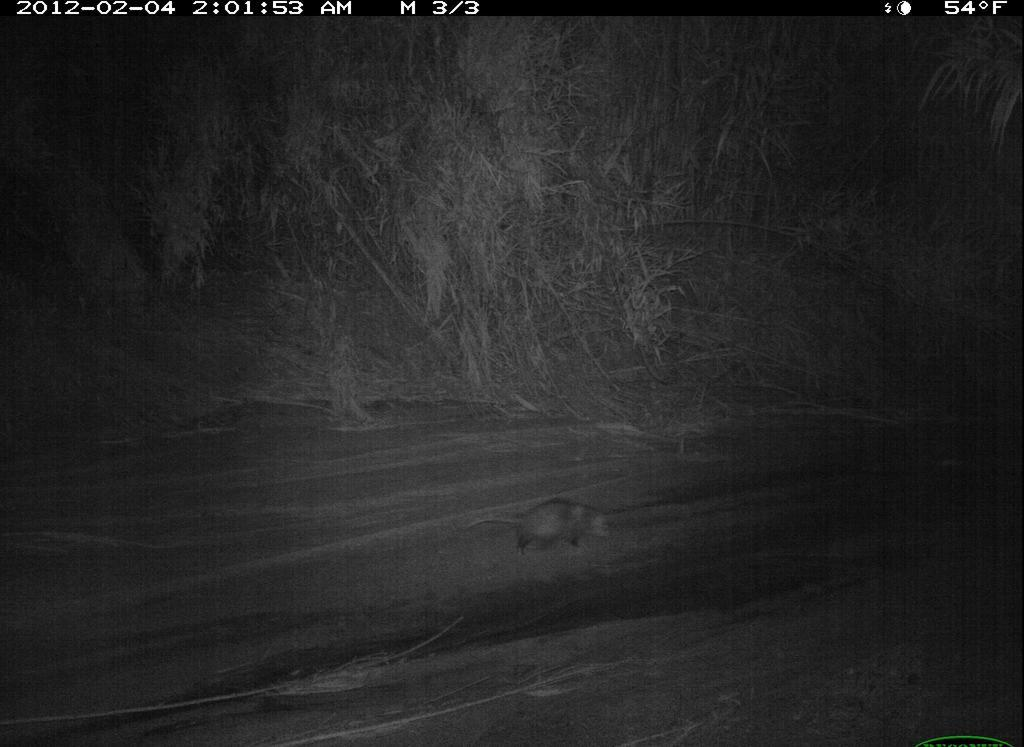opossum: (460, 496, 621, 560)
